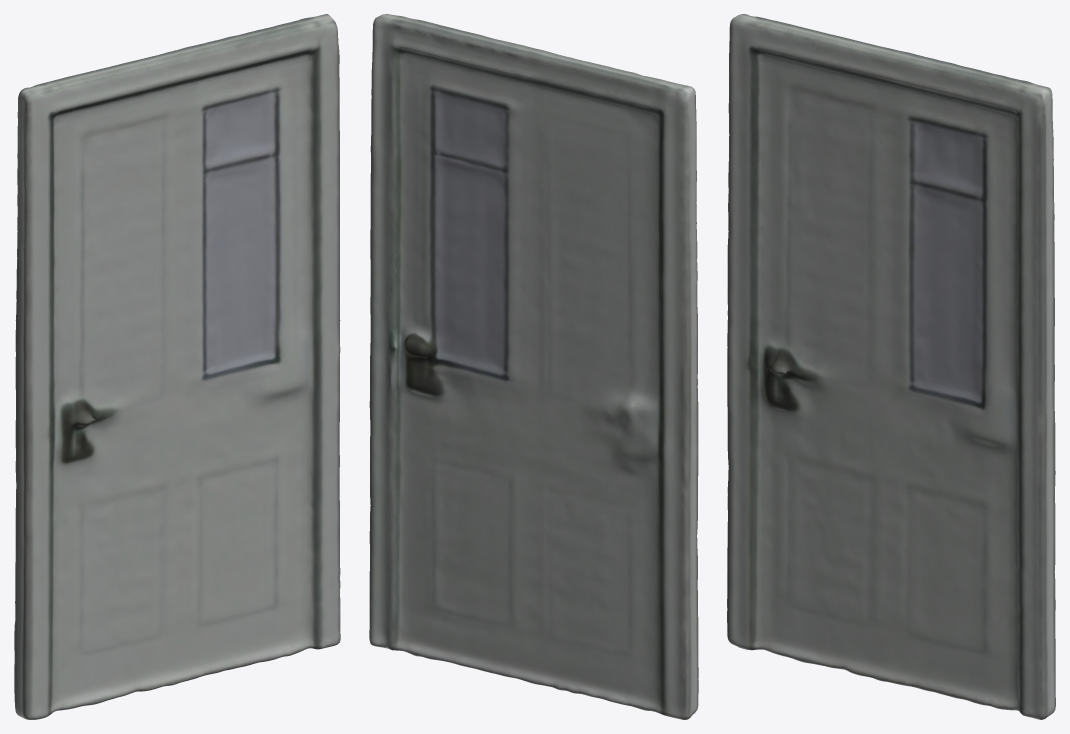
File: 9d4ae9d5ce92_door__3d_asset_0_gl.fbx
3 views of the same model, side by side, from view 1: azimuth 30°, elevation 25°; view 2: azimuth 150°, elevation 25°; view 3: azimuth 330°, elevation 25° (orthographic).
Parts seen in each view (by area): view 1: high_poly; view 2: high_poly; view 3: high_poly.
Boxes of the visible parts, x1,y1,x2,y2 form: high_poly: (14,14,340,719); high_poly: (369,14,698,719); high_poly: (727,14,1055,719).
Size of the model in its own units: 52.82 by 100 by 6.7.
